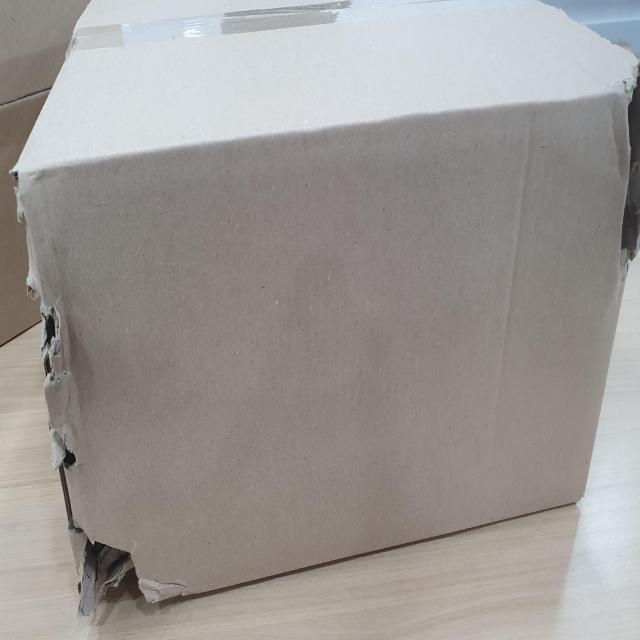damaged: (37, 299, 153, 615)
